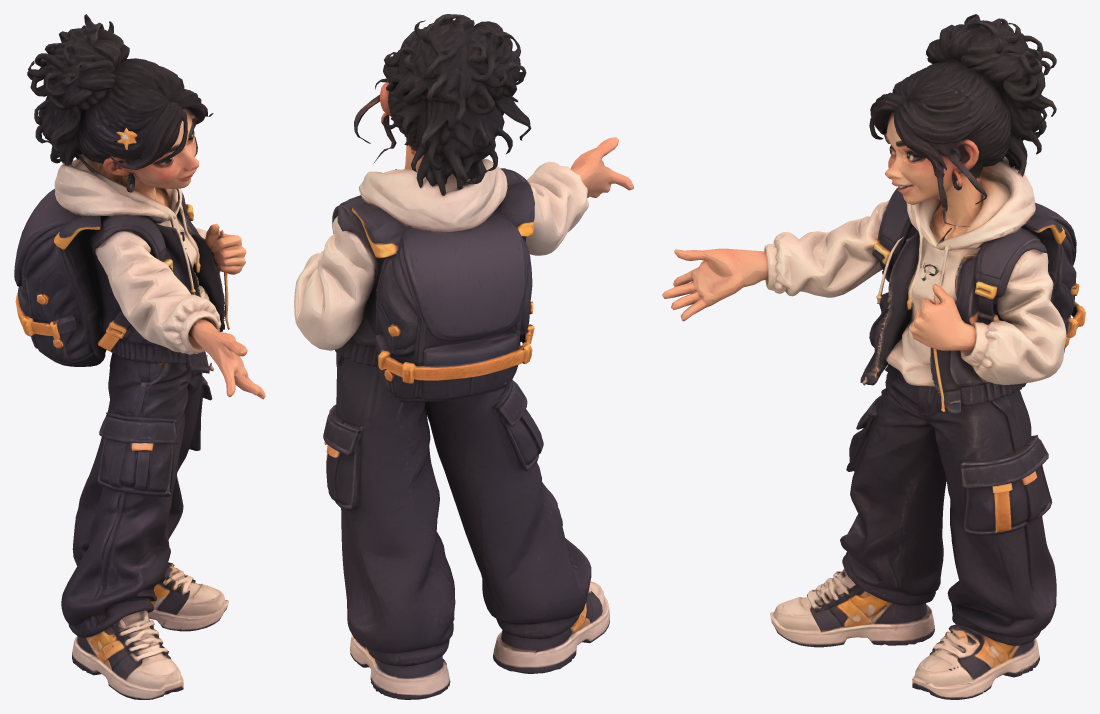
File: spark.glb
3 views of the same model, side by side, from view 1: azimuth 30°, elevation 25°; view 2: azimuth 150°, elevation 25°; view 3: azimuth 270°, elevation 25° (orthographic). The views are drawn at different scales.
Parts seen in each view (by area): view 1: model; view 2: model; view 3: model.
Part boxes in pixels (left/top/right/bottom): model: left=14, top=14, right=265, bottom=699; model: left=294, top=14, right=633, bottom=699; model: left=662, top=14, right=1085, bottom=699.
Size of the model in its own units: 0.671 by 1.9 by 1.16.
1 material, 1 textured.
